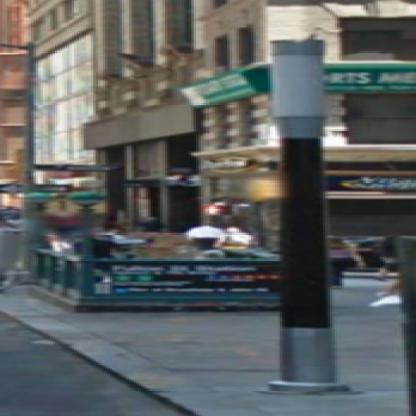Streetlights 1: (126, 7, 415, 414)
